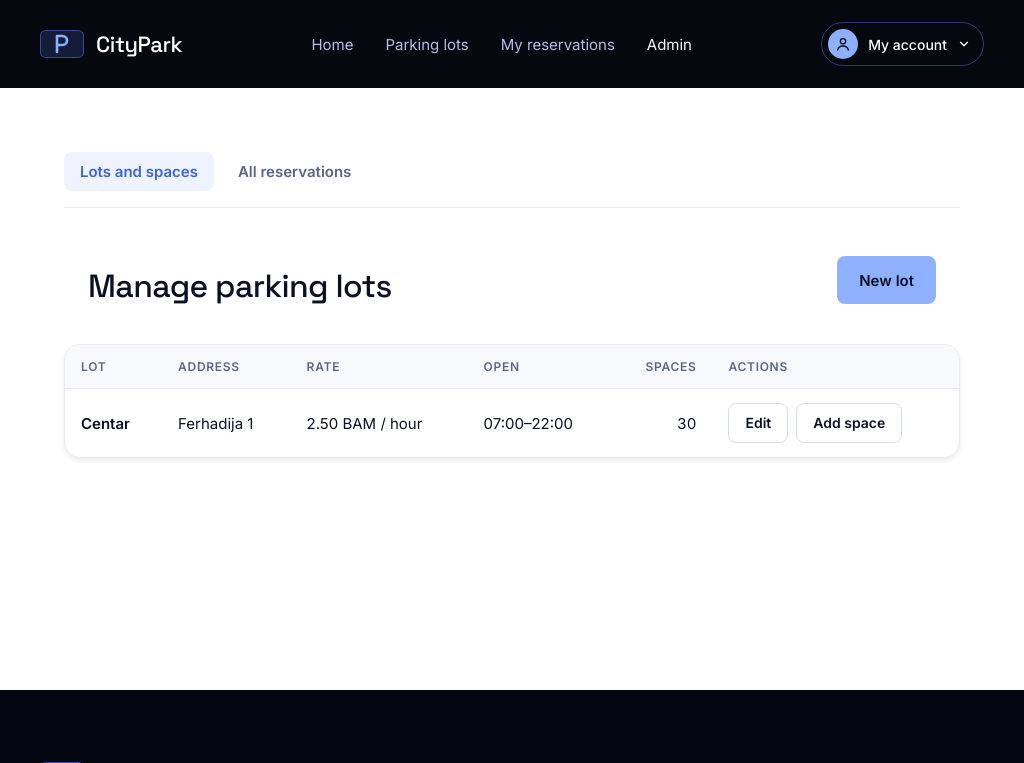
Test case: admin lots › edits the rate of an existing lot
Click the button with aria-label "Edit Centar" at (758, 423), box [728,403,788,443]
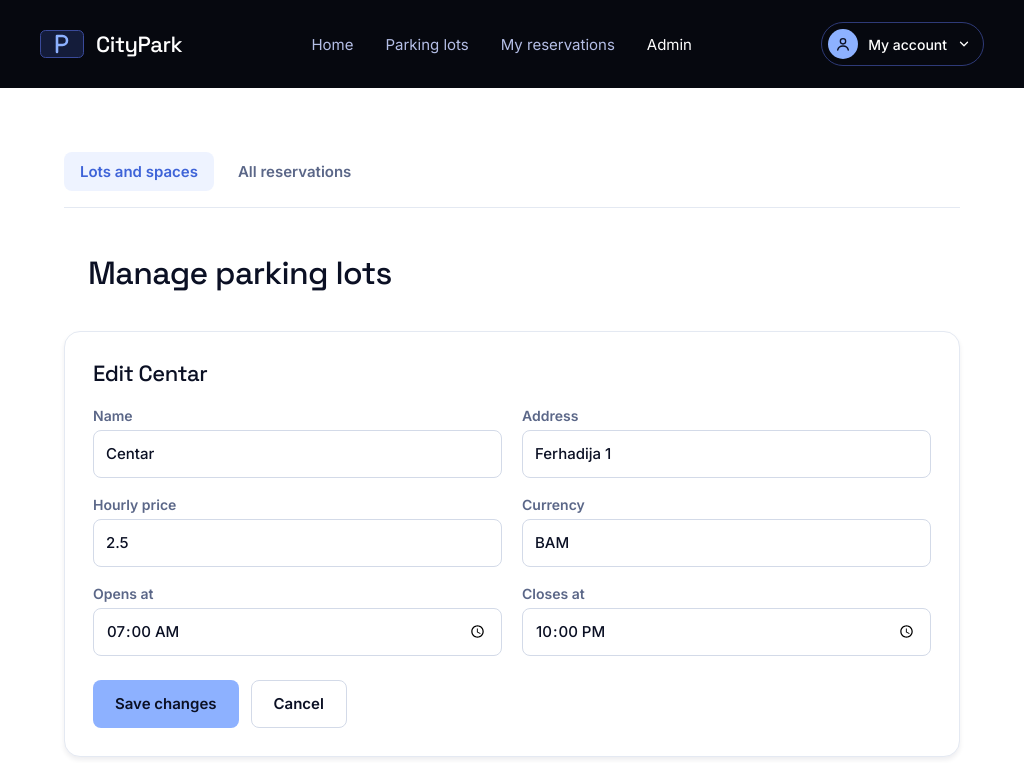
Result: the number field labelled "Hourly price" holds "2.5"
Replace the text in the number field labelled "Hourly price" with "3" at (298, 543), box [93,519,502,567]
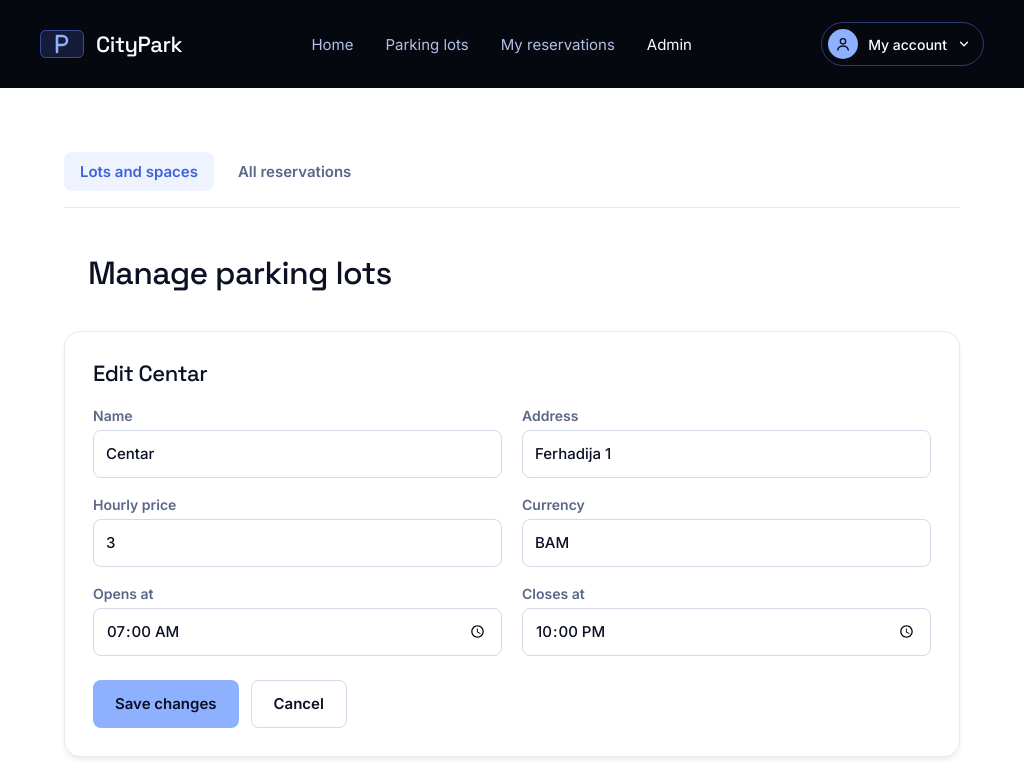
Click the button "Save changes" at (166, 704), box [93,680,238,728]
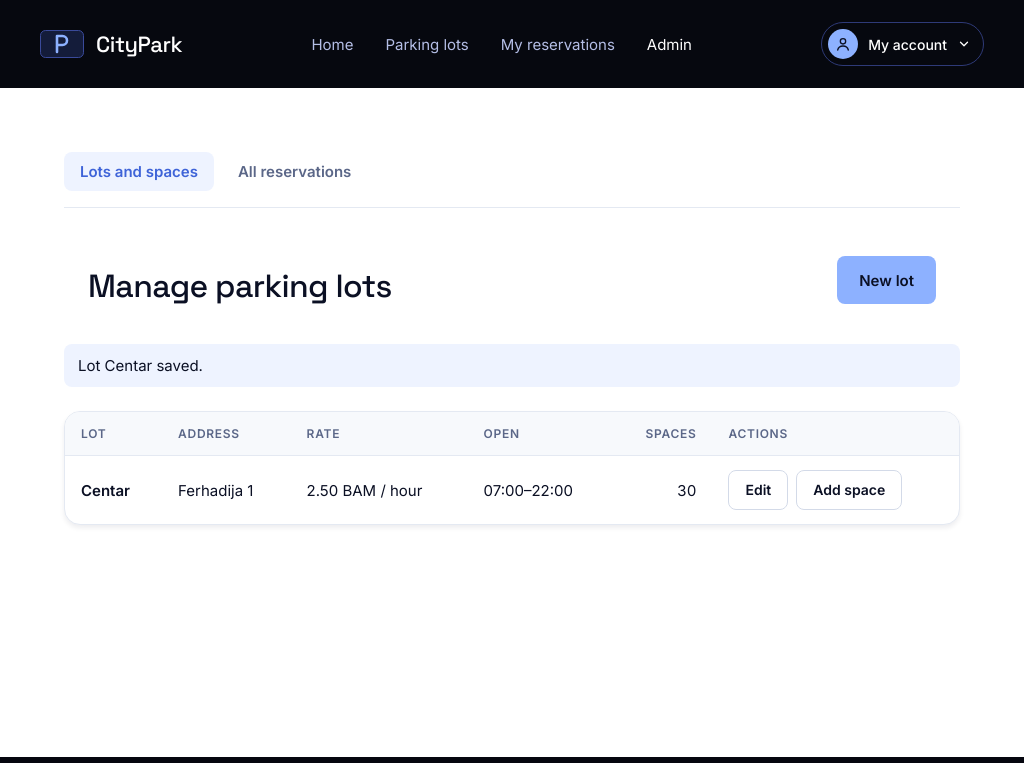
Result: the message reads "Lot Centar saved." at [78,356,203,375]
